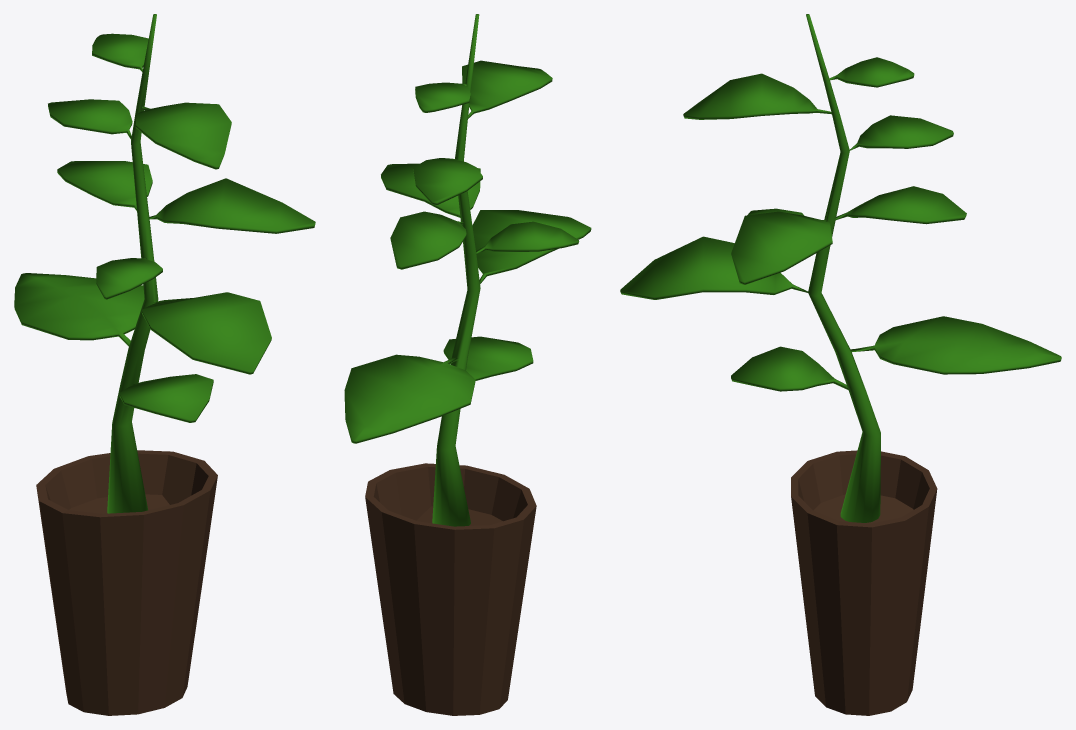
Rendered from Bedroom - plant(1).fbx.
The picture shows the model from 3 angles, left to right: view 1: azimuth 30°, elevation 25°; view 2: azimuth 150°, elevation 25°; view 3: azimuth 270°, elevation 25°; orthographic projection. The views are drawn at different scales.
Parts seen in each view (by area): view 1: Cylinder.041; view 2: Cylinder.041; view 3: Cylinder.041.
Boxes of the visible parts, <box> form: Cylinder.041: <box>14,14,315,715</box>; Cylinder.041: <box>344,14,591,715</box>; Cylinder.041: <box>620,14,1061,715</box>.
Bounding box in the file's own units: 121 × 385 × 228.
